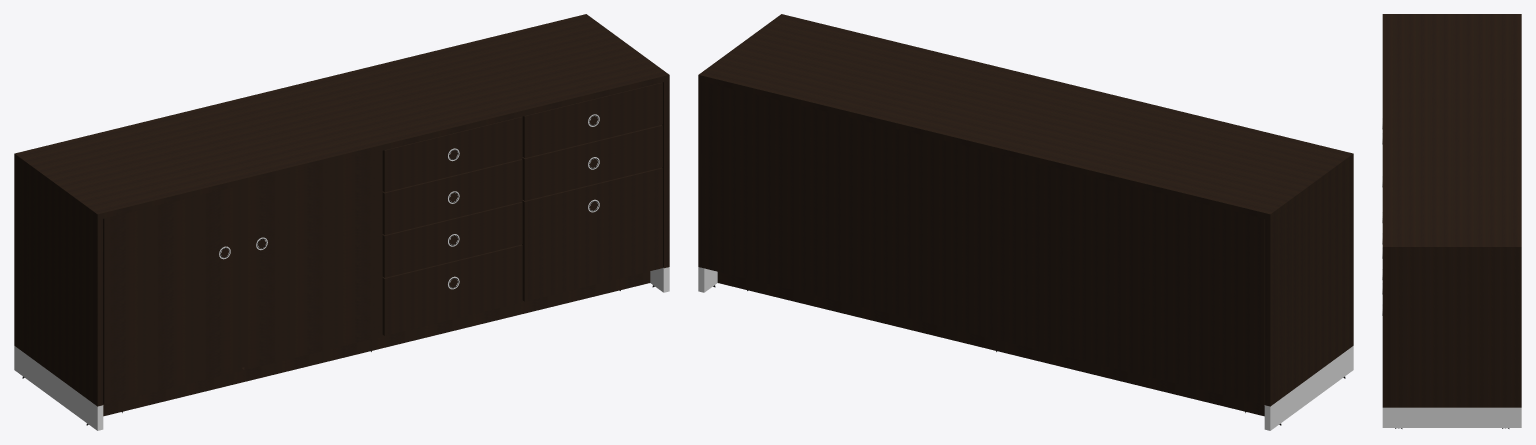
Rendered from HMI_Sled_Base_Credenza_Four_Units_Wide_3D.fbx.
The picture shows the model from 3 angles, left to right: view 1: azimuth 30°, elevation 25°; view 2: azimuth 150°, elevation 25°; view 3: azimuth 270°, elevation 25°; orthographic projection. The views are drawn at different scales.
Visible parts, largest first — view 1: HWoodH, HWoodV, HMetal, HPull; view 2: HWoodV, HWoodH, HMetal; view 3: HWoodH, HWoodV, HMetal.
Boxes of the visible parts, x1,y1,x2,y2 form: HWoodH: [14, 14, 669, 416]; HWoodV: [14, 80, 669, 406]; HMetal: [14, 267, 669, 430]; HPull: [219, 114, 599, 289]; HWoodV: [698, 80, 1353, 406]; HWoodH: [698, 14, 1353, 416]; HMetal: [698, 267, 1353, 430]; HWoodH: [1382, 14, 1521, 251]; HWoodV: [1382, 252, 1521, 407]; HMetal: [1382, 407, 1521, 427].
Bounding box in the file's own units: 187 × 68.5 × 47.07.
3 materials, 1 textured.
